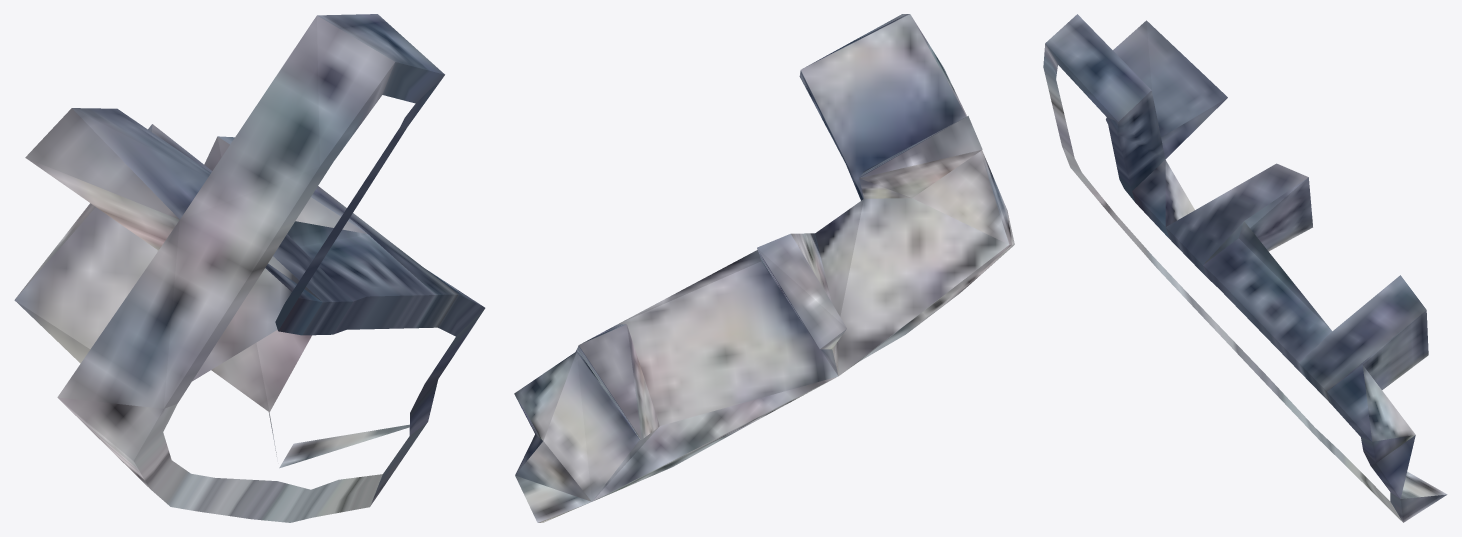
The picture shows the model from 3 angles, left to right: view 1: azimuth 30°, elevation 25°; view 2: azimuth 150°, elevation 25°; view 3: azimuth 270°, elevation 25°; orthographic projection. The views are drawn at different scales.
Size of the model in its own units: 37.51 by 42.98 by 37.83.
1 material, 1 textured.
